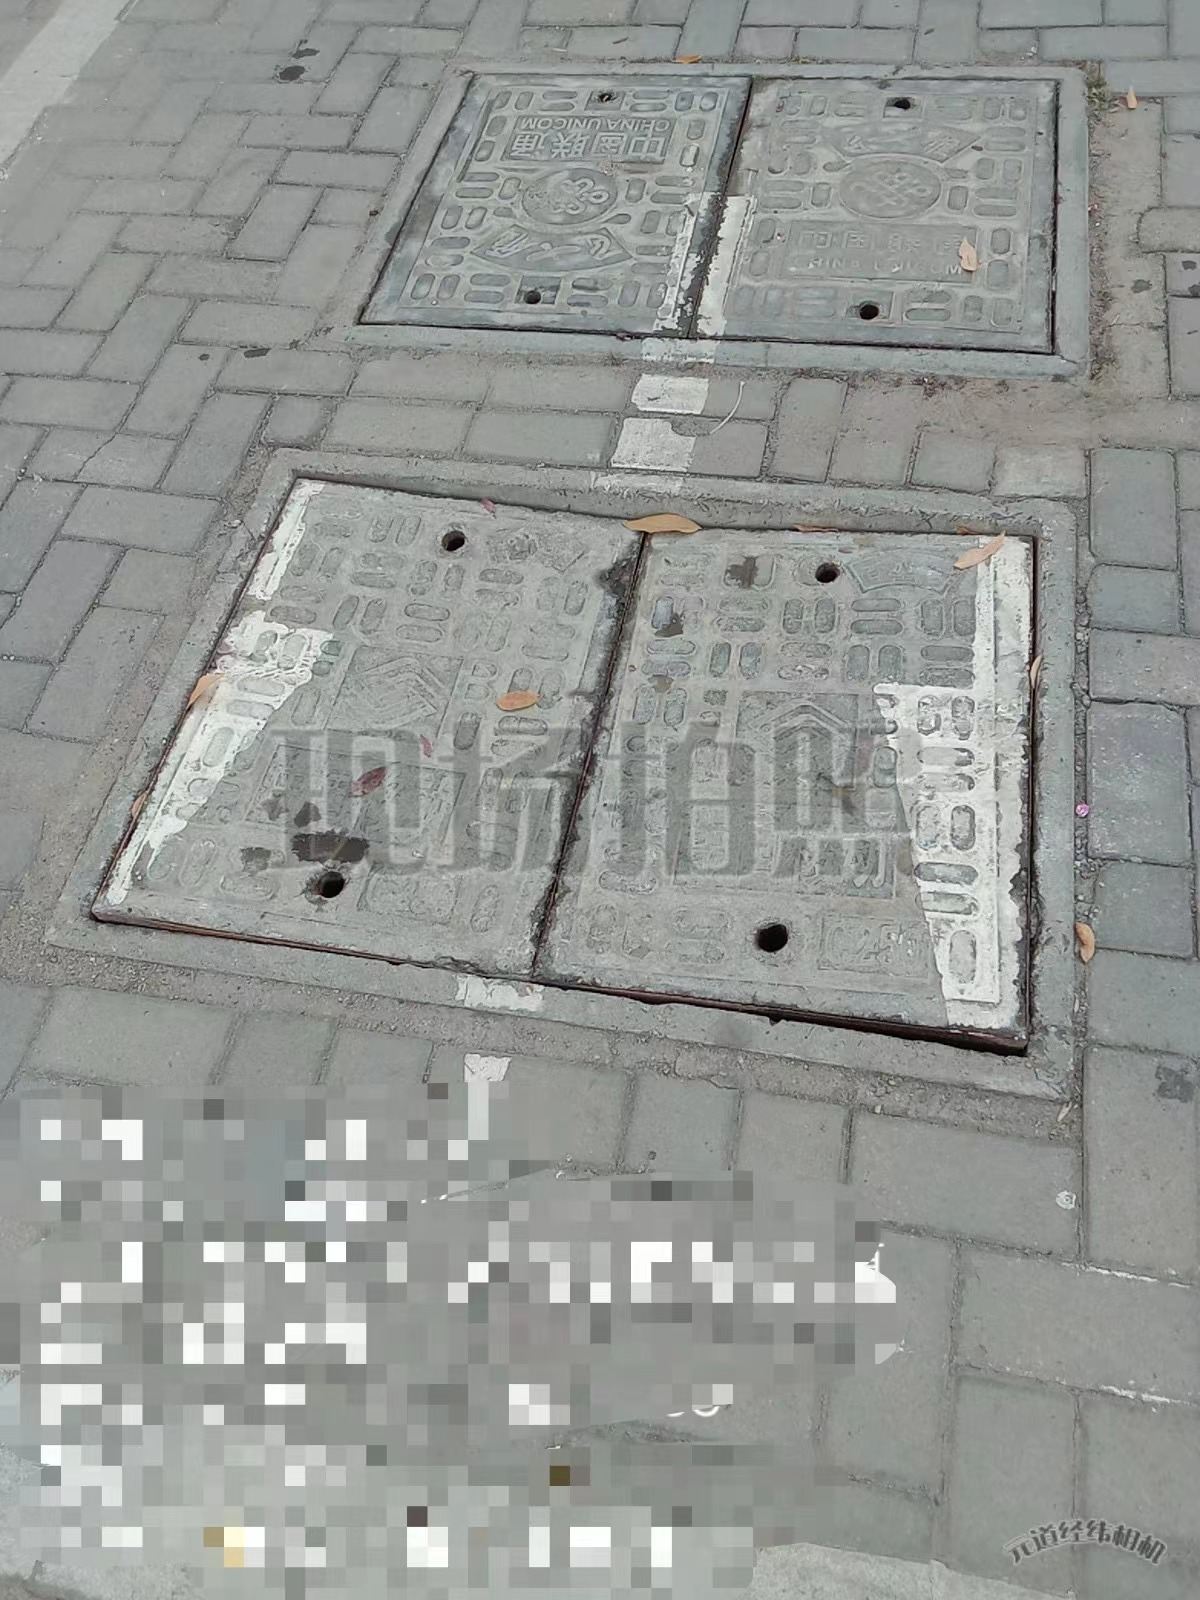well: (53, 462, 1085, 1090), (333, 60, 1097, 373)
